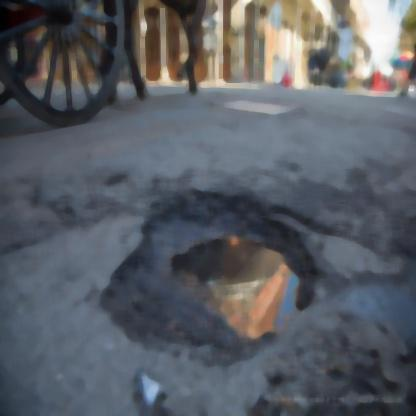Potholes: (174, 197, 304, 336)
